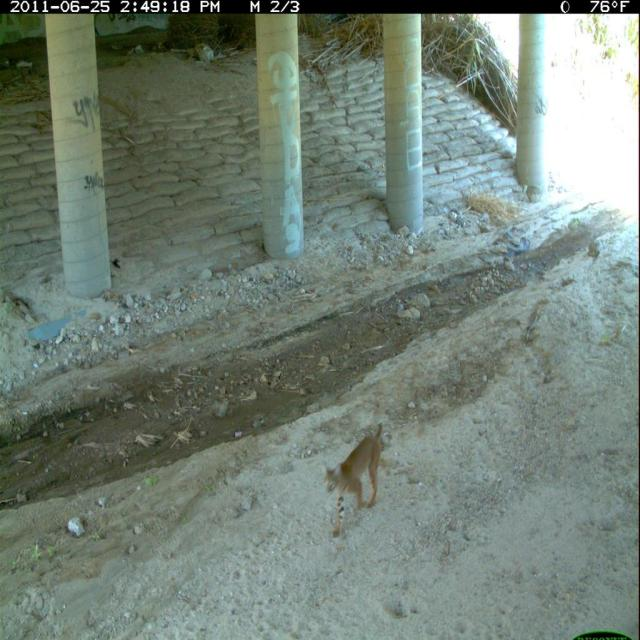bobcat: (321, 418, 388, 544)
